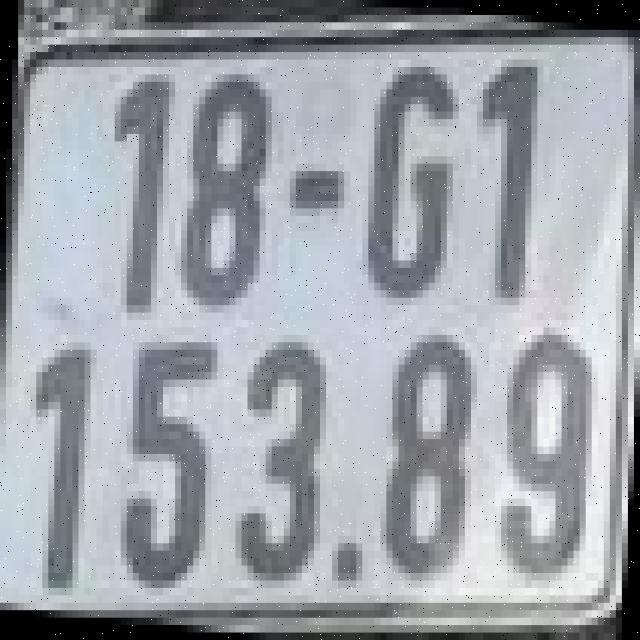1: (27, 342, 100, 588), (474, 56, 546, 301), (109, 71, 175, 309)
3: (236, 338, 326, 576)
5: (121, 335, 217, 580)
8: (380, 327, 477, 573), (181, 67, 272, 305)
9: (498, 327, 595, 573)
G: (362, 63, 459, 294)
